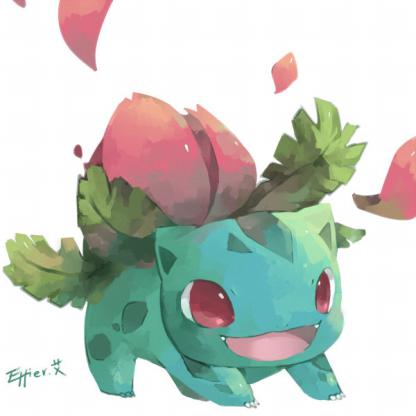Ivysaur: (9, 60, 381, 412)
